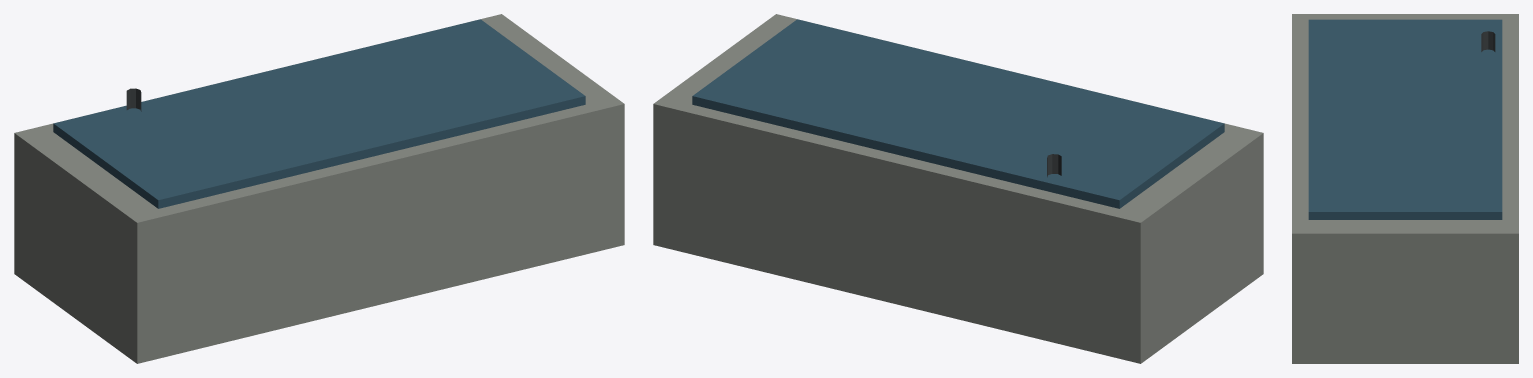
The model's file is bath.glb.
The picture shows the model from 3 angles, left to right: view 1: azimuth 30°, elevation 25°; view 2: azimuth 150°, elevation 25°; view 3: azimuth 270°, elevation 25°; orthographic projection. The views are drawn at different scales.
Visible parts, largest first — view 1: body; view 2: body; view 3: body.
Boxes of the visible parts, box(x1,y1,x2,y2) form: body: box(14, 14, 624, 363); body: box(653, 14, 1263, 363); body: box(1292, 14, 1518, 363).
Size of the model in its own units: 1.65 by 0.548 by 0.72.
Materials: 1 (1 with a texture image).
